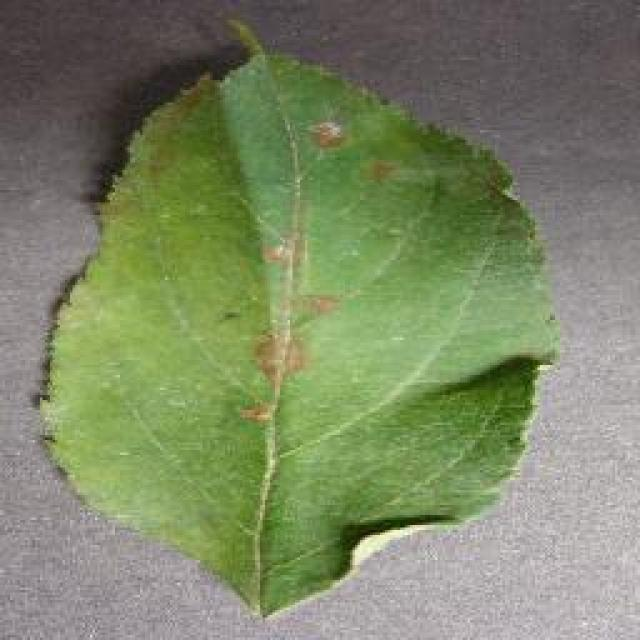apple scab disease: (35, 18, 560, 618)
